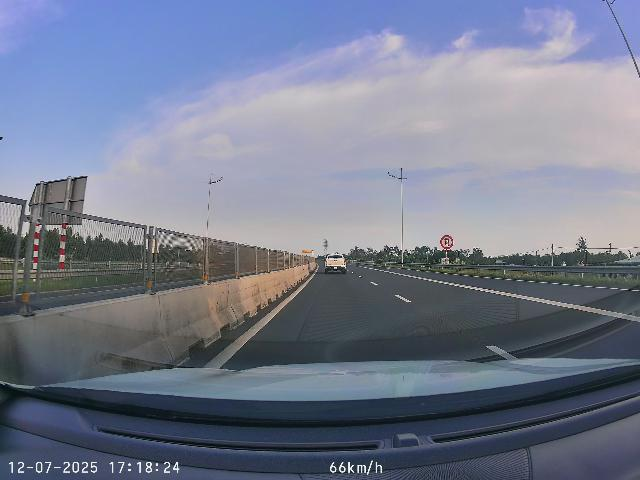124a-cam-quay-dau-xe: (440, 235, 454, 249)
